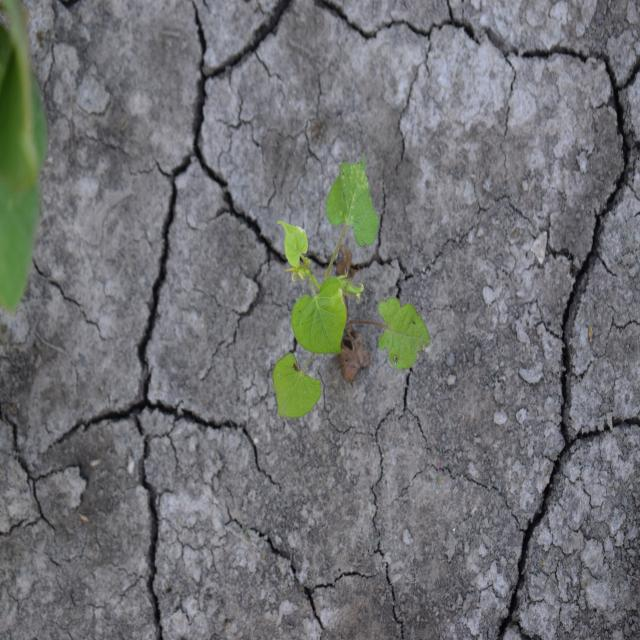MorningGlory: (271, 150, 432, 420)
